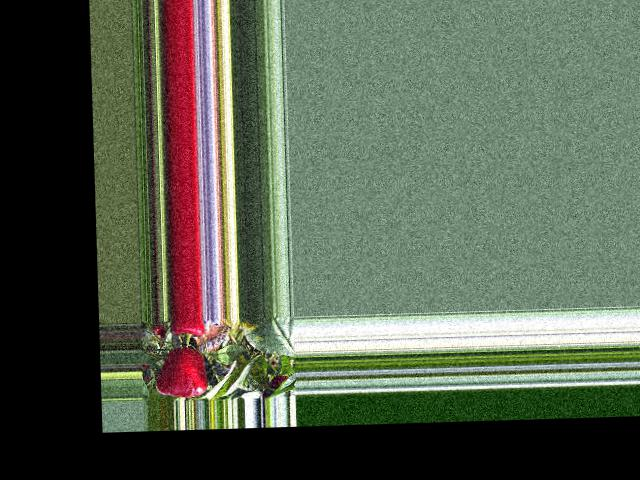bell_pepper: (168, 318, 208, 340)
